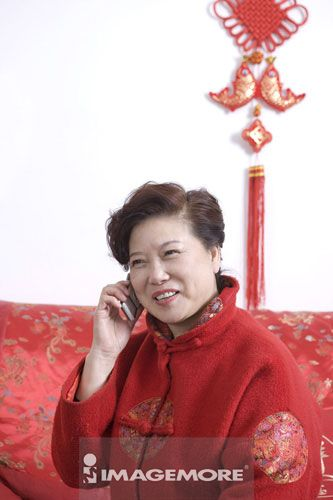talk: (89, 231, 188, 354)
